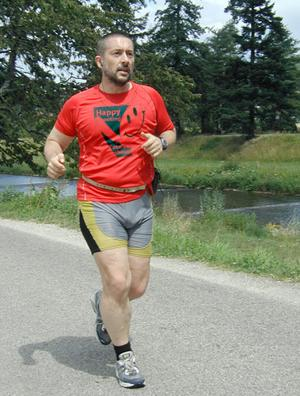person: (43, 33, 177, 389)
